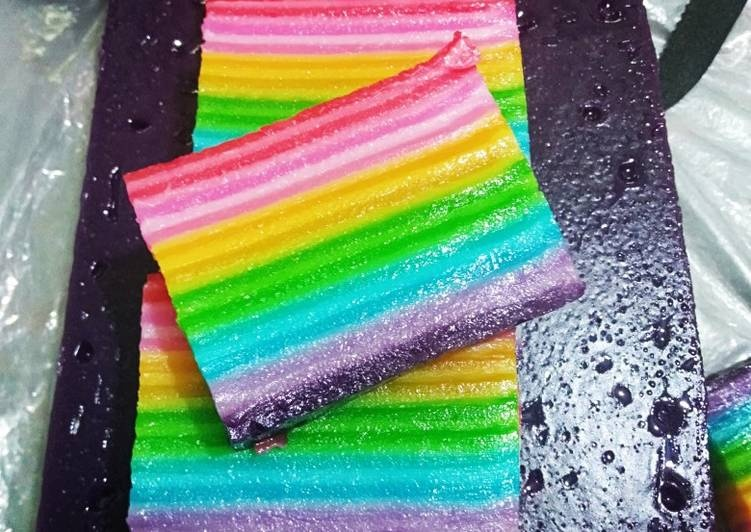kue_lapis_pelangi: (121, 30, 583, 450)
